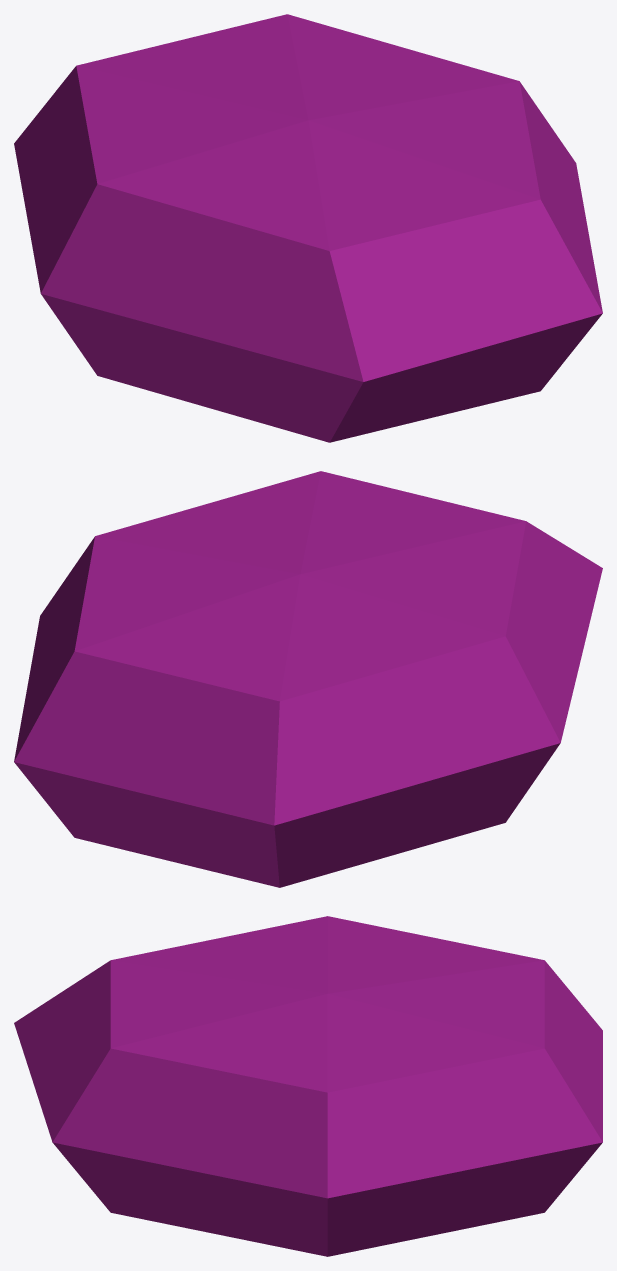
The model's file is Crystal 2.fbx.
3 renders of one model, top to bottom at view 1: azimuth 30°, elevation 25°; view 2: azimuth 150°, elevation 25°; view 3: azimuth 270°, elevation 25°, orthographic. The views are drawn at different scales.
Parts seen in each view (by area): view 1: Crystal_2; view 2: Crystal_2; view 3: Crystal_2.
Part boxes in pixels (<box>): Crystal_2: <box>14,14,602,442</box>; Crystal_2: <box>14,471,602,887</box>; Crystal_2: <box>14,916,602,1256</box>.
Bounding box in the file's own units: 34.66 × 14.21 × 38.54.
1 material, 1 textured.
